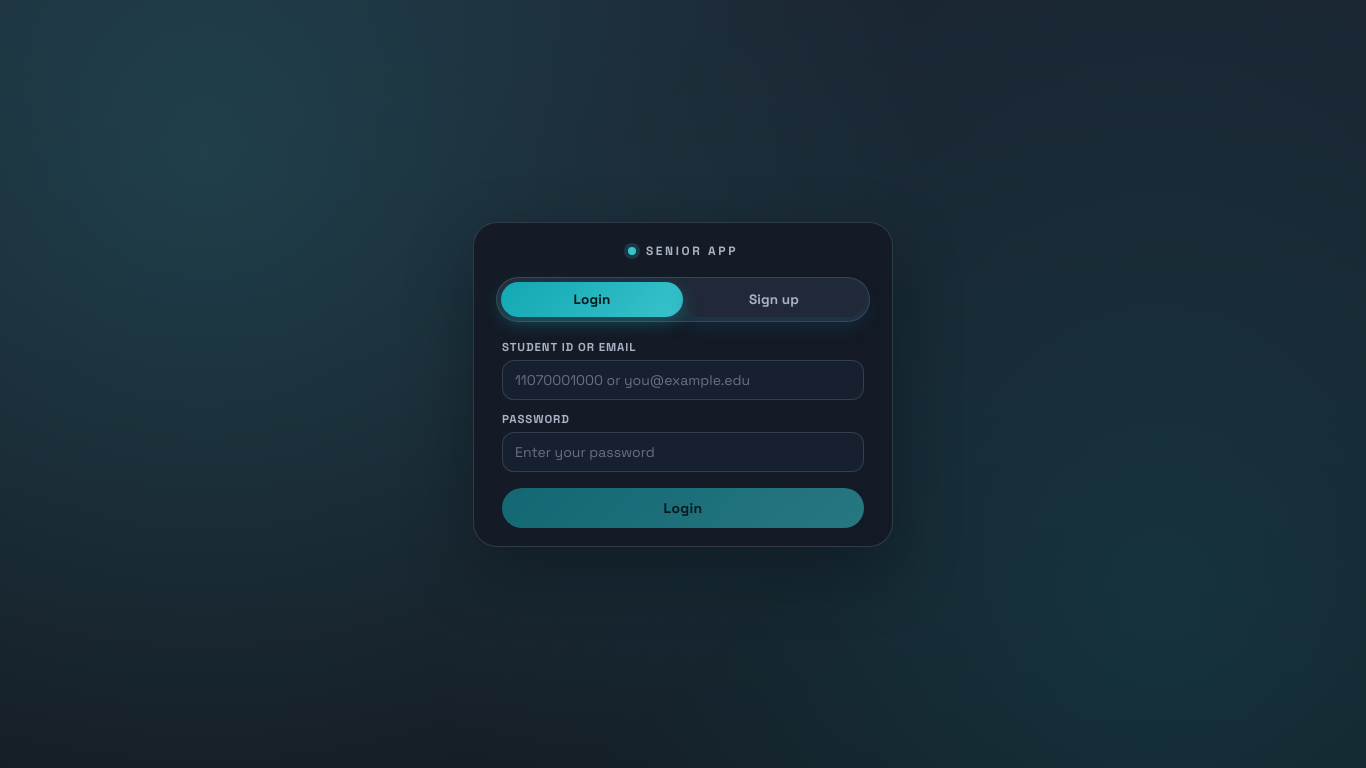
Test: Unified login page (issue #315) › Login button is disabled until both fields are filled
This screenshot has width=1366, height=768.
Check: the button "Login" is disabled, box [502,488,864,528]
Type "something" into the field labelled "Student ID or Email". click: point(683, 380)
box: [502,360,864,400]
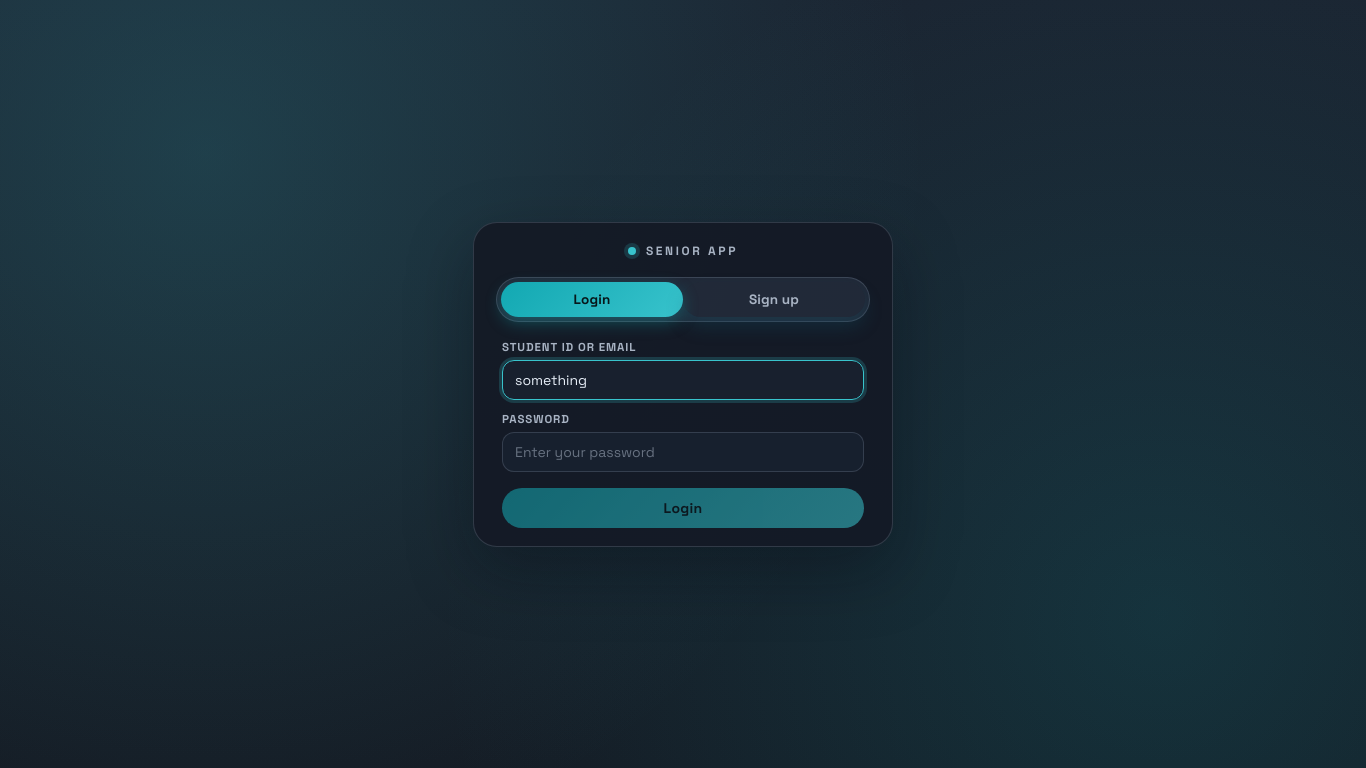
Check: the button "Login" is disabled, box [502,488,864,528]
Type "pw" into the password field labelled "Password". click: point(683, 452)
box: [502,432,864,472]
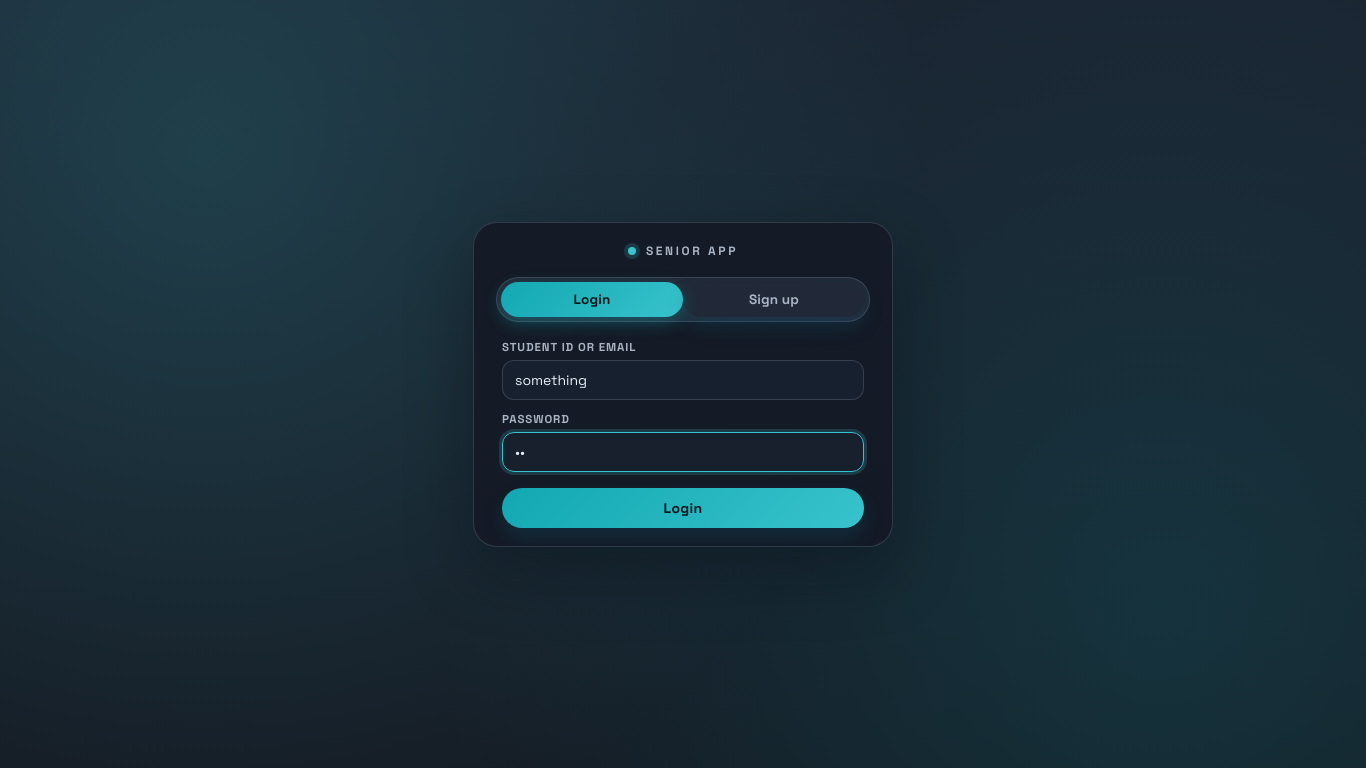
Check: the button "Login" is enabled, box [502,488,864,528]
